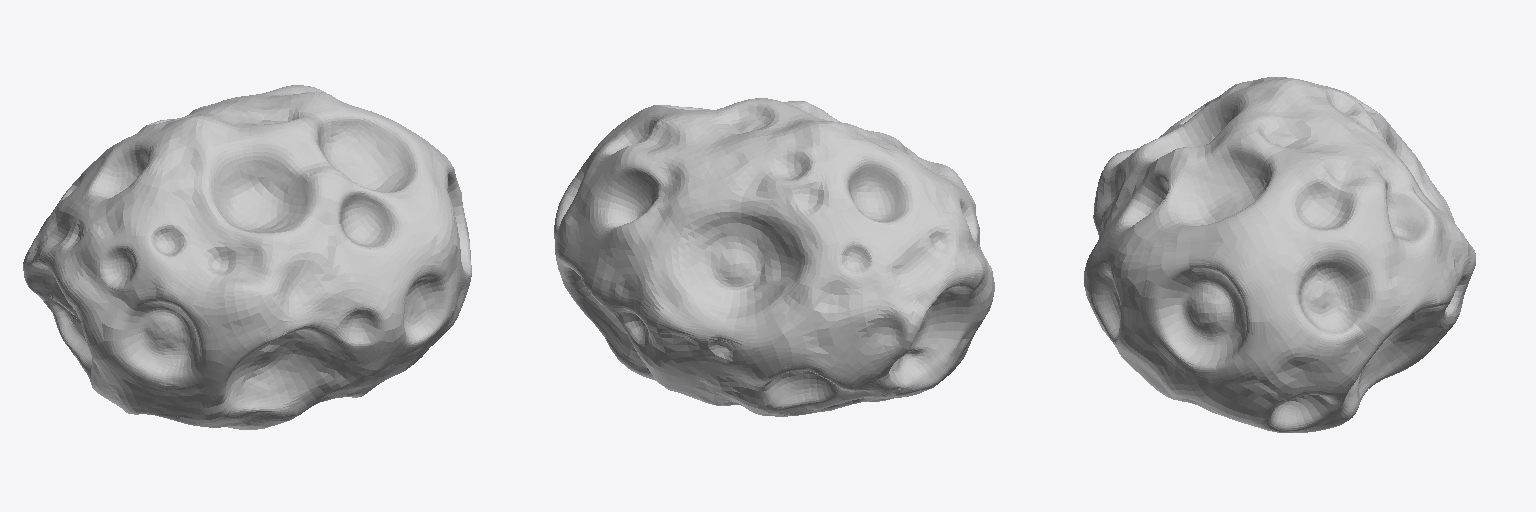
File: Fireball.obj
The picture shows the model from 3 angles: view 1: azimuth 30°, elevation 25°; view 2: azimuth 150°, elevation 25°; view 3: azimuth 270°, elevation 25°; orthographic projection.
Visible parts, largest first — view 1: Asteroid_2b_Asteroid2b; view 2: Asteroid_2b_Asteroid2b; view 3: Asteroid_2b_Asteroid2b.
Boxes of the visible parts, box(x1,y1,x2,y2) form: Asteroid_2b_Asteroid2b: box(23, 85, 471, 429); Asteroid_2b_Asteroid2b: box(554, 98, 994, 416); Asteroid_2b_Asteroid2b: box(1084, 77, 1475, 432).
Size of the model in its own units: 2.3 by 1.61 by 1.94.